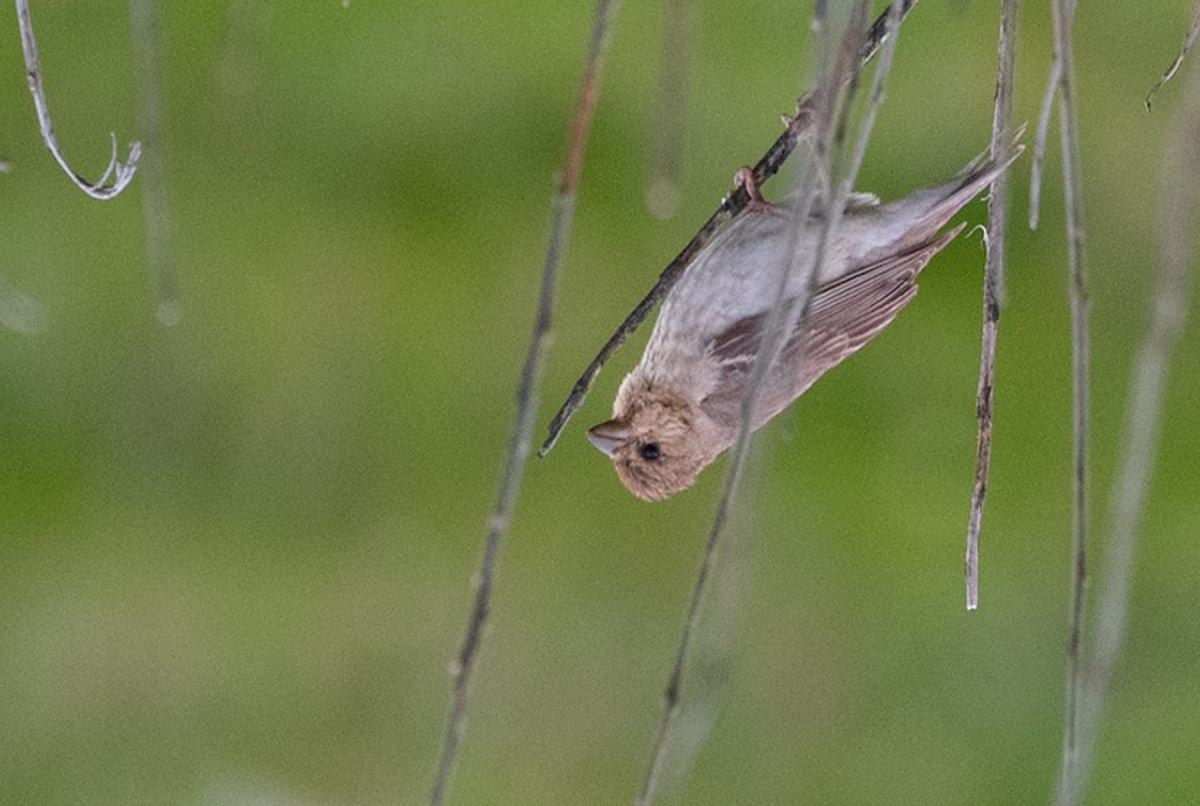rosefinch: (569, 119, 1007, 517)
